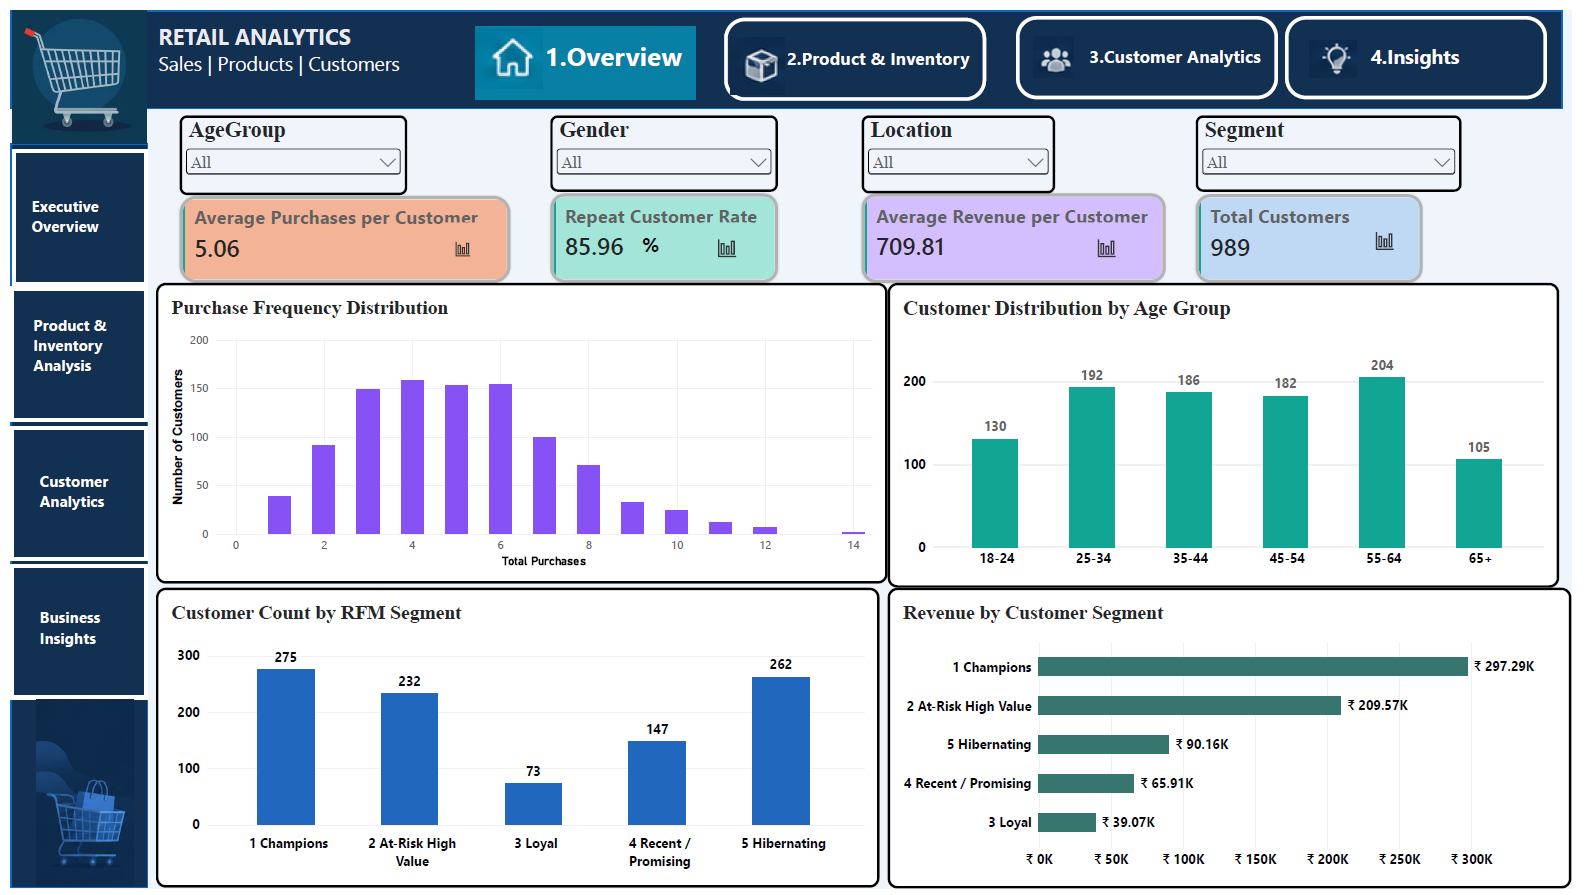

The dashboard page shown, as its layout file describes it:
{"tool":"powerbi","page":{"name":"Customer Analytics","canvas":[1920,1080],"ordinal":2},"visuals":[{"type":"cardVisual","fields":{"Data":["Sum(repeat_purchase_rate.repeat_purchase_rate_pct)"]},"box":[664.4,224.5,279.8,110.4],"z":0},{"type":"cardVisual","fields":{"Data":["clean_sales.Total Customers"]},"box":[1457.7,226.4,279.8,108.6],"z":1000},{"type":"cardVisual","fields":{"Data":["rfm_customers.Average Revenue per Customer"]},"box":[1047.2,224.5,373.6,110.4],"z":2000},{"type":"cardVisual","fields":{"Data":["rfm_customers.Average Purchases per Customer"]},"box":[208,228.2,406.8,106.7],"z":3000},{"type":"clusteredColumnChart","title":"Customer Count by RFM Segment","fields":{"Category":["rfm_customers.Segment"],"Y":["Count(rfm_customers.CustomerID)"]},"box":[178.5,710.4,890.8,368.1],"z":5000},{"type":"clusteredBarChart","title":"Revenue by Customer Segment","fields":{"Category":["rfm_customers.Segment"],"Y":["Sum(rfm_customers.Monetary)"]},"box":[1078.5,710.4,841.1,369.9],"z":6000},{"type":"clusteredColumnChart","title":"Purchase Frequency Distribution","fields":{"Category":["purchase_frequency_distribution.purchases"],"Y":["Sum(purchase_frequency_distribution.customers)"]},"box":[178.5,335,900,369.9],"z":7000},{"type":"clusteredColumnChart","title":"Customer Distribution by Age Group","fields":{"Category":["clean_customers.AgeGroup"],"Y":["CountNonNull(clean_customers.CustomerID)"]},"box":[1078.5,335,826.4,375.5],"z":8000},{"type":"slicer","fields":{"Values":["clean_customers.Gender"]},"box":[664.4,128.8,280,94],"z":10000},{"type":"slicer","fields":{"Values":["clean_customers.AgeGroup"]},"box":[208,128.8,280,98],"z":11000},{"type":"slicer","fields":{"Values":["clean_customers.Location"]},"box":[1047.2,128.8,238,96],"z":12000},{"type":"shape","box":[0,0,1908.6,121.5],"z":12001},{"type":"shape","box":[0,163.8,169.3,914.7],"z":12002},{"type":"shape","box":[572.4,20.2,270.6,90.2],"z":12004},{"type":"shape","box":[877.9,9.2,322,102],"z":12005},{"type":"shape","box":[1236.8,7.4,322,102],"z":12006},{"type":"shape","box":[1568.1,7.4,322,102],"z":12007},{"type":"shape","box":[1.8,171.2,167.5,167.5],"z":12008},{"type":"shape","box":[0,340.5,169.3,165.6],"z":12009},{"type":"shape","box":[0,511.7,169.3,165.6],"z":12010},{"type":"shape","box":[0,681,169.3,165.6],"z":12011},{"type":"image","box":[0,847.2,183,230.2],"z":12012},{"type":"textbox","box":[182.2,12.9,329.4,119.6],"z":12013},{"type":"image","box":[0,0,169.8,164.2],"z":12014},{"type":"image","box":[572.4,20.2,83,77.4],"z":12015},{"type":"image","box":[877.9,33.1,82.3,70],"z":12016},{"type":"image","box":[1258.9,14.7,48,84],"z":12017},{"type":"image","box":[1597.6,20.2,58,80],"z":12018},{"type":"textbox","box":[955.2,44.2,244.8,79.1],"z":12019},{"type":"textbox","box":[1327,42.3,213.2,158.5],"z":12021},{"type":"textbox","box":[1673,40.5,141.5,52.8],"z":12022},{"type":"textbox","box":[657.1,33.1,184.9,54.7],"z":12023},{"type":"textbox","box":[26.4,228.3,117,54.7],"z":12024},{"type":"textbox","box":[28.3,373.6,100,98.1],"z":12025},{"type":"textbox","box":[35.8,566,117,56.6],"z":12026},{"type":"textbox","box":[35.8,734,152.8,60.4],"z":12028},{"type":"clusteredColumnChart","fields":{"Category":["DateTable.Date.Variation.Date Hierarchy.Month"],"Y":["clean_sales.Total Revenue"]},"box":[526.4,261.4,60.7,66.3],"z":12029},{"type":"clusteredColumnChart","fields":{"Category":["DateTable.Date.Variation.Date Hierarchy.Month"],"Y":["clean_sales.Total Revenue"]},"box":[1656.5,252.1,68.1,64.4],"z":12030},{"type":"clusteredColumnChart","fields":{"Category":["DateTable.Date.Variation.Date Hierarchy.Month"],"Y":["clean_sales.Total Revenue"]},"box":[842.9,261.4,77.3,64.4],"z":12031},{"type":"textbox","box":[776.7,270.6,28.3,54.7],"z":12032},{"type":"clusteredColumnChart","fields":{"Category":["DateTable.Date.Variation.Date Hierarchy.Month"],"Y":["clean_sales.Total Revenue"]},"box":[1306.8,261.4,82.8,64.4],"z":12033},{"type":"slicer","fields":{"Values":["rfm_customers.Segment"]},"box":[1457.7,128.8,327.6,93.9],"z":12034}]}

Visuals, with their boxes in screenshot pixels (x1, y1, x2, y2), scaled from the page's 1920x1080 canvas onto the 1585x895 screenshot:
cardVisual - Sum(repeat_purchase_rate.repeat_purchase_rate_pct): 548,186,779,278
cardVisual - clean_sales.Total Customers: 1203,188,1434,278
cardVisual - rfm_customers.Average Revenue per Customer: 864,186,1173,278
cardVisual - rfm_customers.Average Purchases per Customer: 172,189,508,278
"Customer Count by RFM Segment" clusteredColumnChart: 147,589,883,894
"Revenue by Customer Segment" clusteredBarChart: 890,589,1584,894
"Purchase Frequency Distribution" clusteredColumnChart: 147,278,890,584
"Customer Distribution by Age Group" clusteredColumnChart: 890,278,1573,589
slicer - clean_customers.Gender: 548,107,780,185
slicer - clean_customers.AgeGroup: 172,107,403,188
slicer - clean_customers.Location: 864,107,1061,186
shape: 0,0,1576,101
shape: 0,136,140,894
shape: 473,17,696,91
shape: 725,8,991,92
shape: 1021,6,1287,91
shape: 1294,6,1560,91
shape: 1,142,140,281
shape: 0,282,140,419
shape: 0,424,140,561
shape: 0,564,140,702
image: 0,702,151,893
textbox: 150,11,422,110
image: 0,0,140,136
image: 473,17,541,81
image: 725,27,793,85
image: 1039,12,1079,82
image: 1319,17,1367,83
textbox: 789,37,991,102
textbox: 1095,35,1271,166
textbox: 1381,34,1498,77
textbox: 542,27,695,73
textbox: 22,189,118,235
textbox: 23,310,106,391
textbox: 30,469,126,516
textbox: 30,608,156,658
clusteredColumnChart - DateTable.Date.Variation.Date Hierarchy.Month x clean_sales.Total Revenue: 435,217,485,272
clusteredColumnChart - DateTable.Date.Variation.Date Hierarchy.Month x clean_sales.Total Revenue: 1367,209,1424,262
clusteredColumnChart - DateTable.Date.Variation.Date Hierarchy.Month x clean_sales.Total Revenue: 696,217,760,270
textbox: 641,224,665,270
clusteredColumnChart - DateTable.Date.Variation.Date Hierarchy.Month x clean_sales.Total Revenue: 1079,217,1147,270
slicer - rfm_customers.Segment: 1203,107,1474,185
